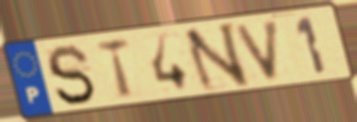1: (295, 14, 330, 75)
4: (152, 31, 193, 94)
N: (180, 20, 252, 95)
S: (44, 43, 99, 108)
T: (95, 36, 136, 102)
V: (232, 17, 282, 84)
